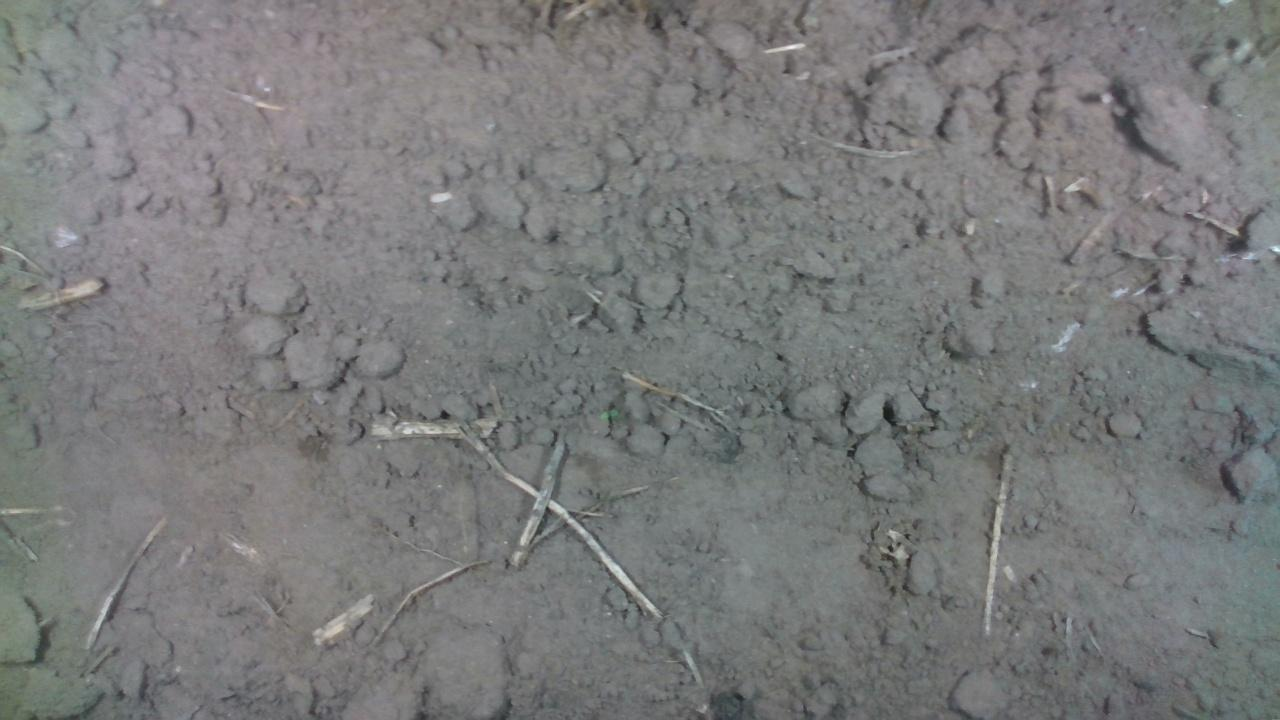weed: (596, 405, 619, 420)
